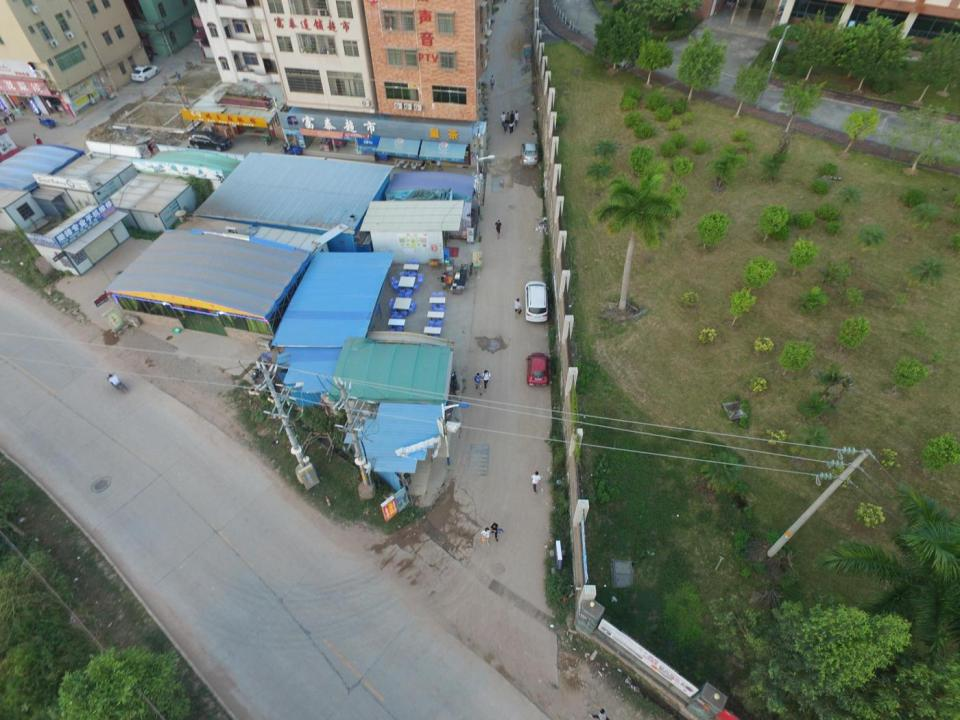car: (524, 281, 550, 323), (189, 131, 231, 151), (527, 353, 548, 386), (131, 64, 159, 82), (520, 142, 539, 166)
